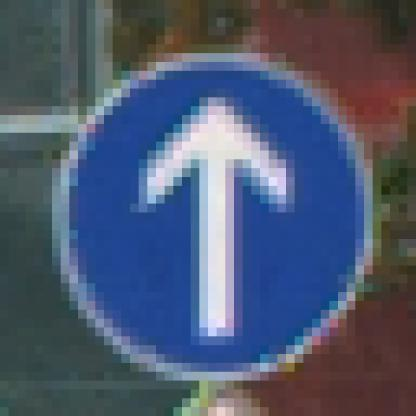AheadOnly: (44, 45, 365, 373)
